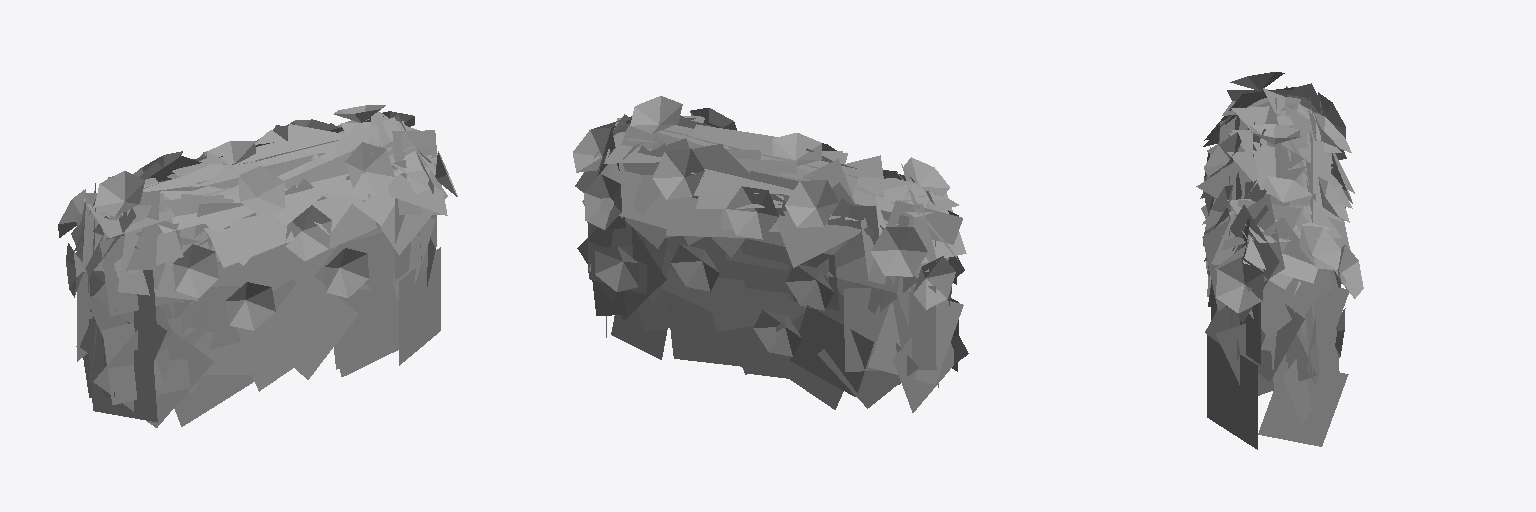
File: Bush_Large_Flowers.obj
3 renders of one model, left to right at view 1: azimuth 30°, elevation 25°; view 2: azimuth 150°, elevation 25°; view 3: azimuth 270°, elevation 25°, orthographic.
Visible parts, largest first — view 1: Bush_Large_Flowers_Plane.029; view 2: Bush_Large_Flowers_Plane.029; view 3: Bush_Large_Flowers_Plane.029.
Boxes of the visible parts, x1,y1,x2,y2 form: Bush_Large_Flowers_Plane.029: [58, 105, 457, 427]; Bush_Large_Flowers_Plane.029: [573, 96, 968, 412]; Bush_Large_Flowers_Plane.029: [1196, 72, 1363, 449].
Size of the model in its own units: 1.93 by 1.26 by 0.7617.